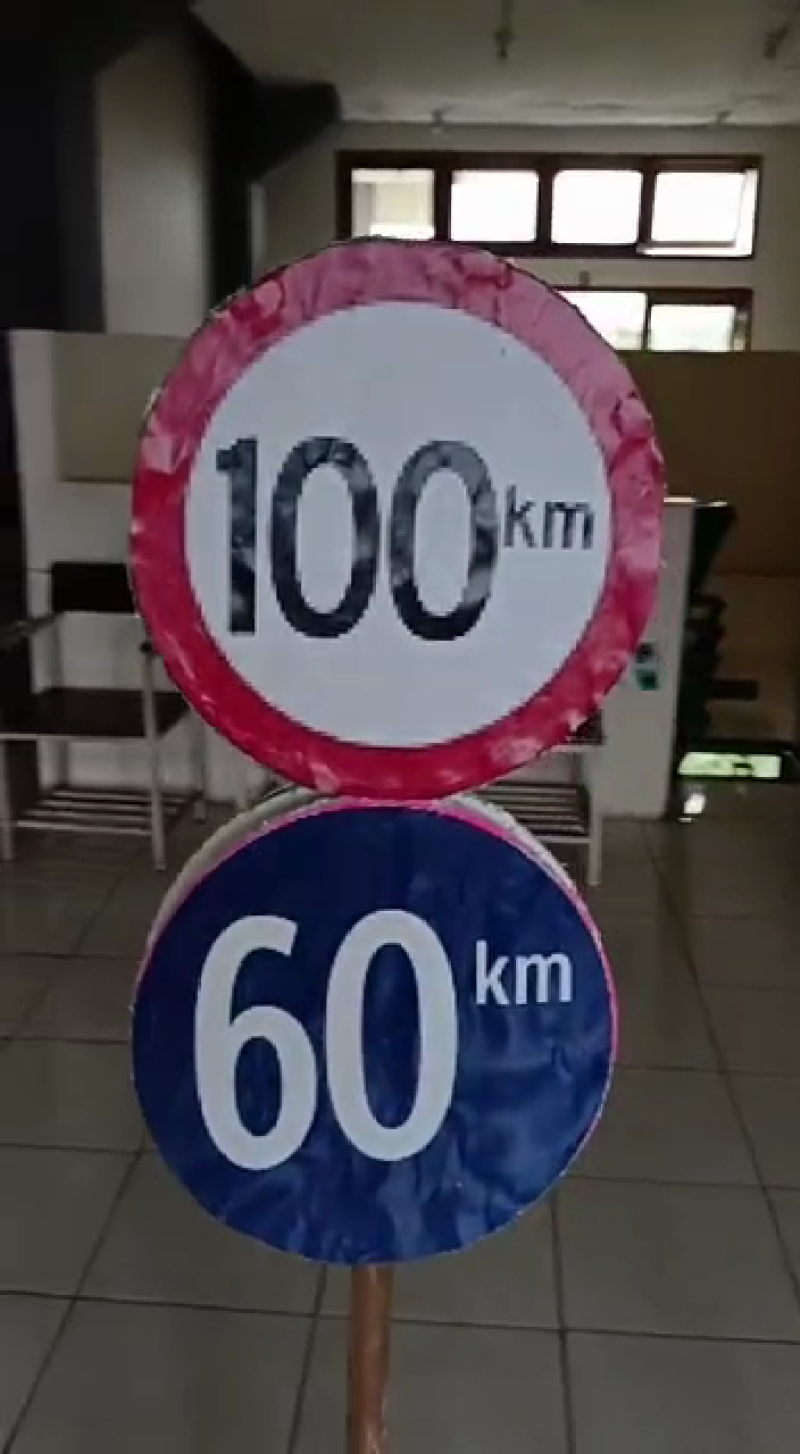batas maksimal 100kmperjam minimal 60kmperjam: (115, 228, 672, 1279)
